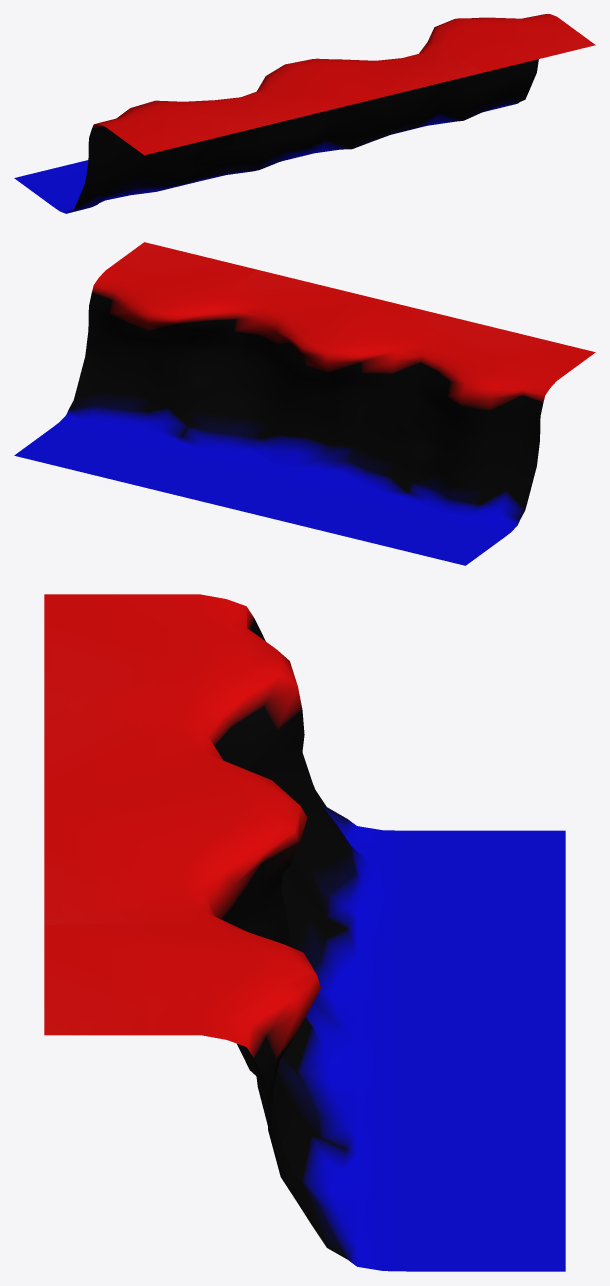
File: RiveCliff02B Background.fbx
3 renders of one model, top to bottom at view 1: azimuth 30°, elevation 25°; view 2: azimuth 150°, elevation 25°; view 3: azimuth 270°, elevation 25°, orthographic. The views are drawn at different scales.
Visible parts, largest first — view 1: RiveCliff02B Background; view 2: RiveCliff02B Background; view 3: RiveCliff02B Background.
Boxes of the visible parts, left/top/right/bottom form: RiveCliff02B Background: left=14, top=14, right=595, bottom=213; RiveCliff02B Background: left=14, top=242, right=595, bottom=565; RiveCliff02B Background: left=44, top=594, right=565, bottom=1271.
Bounding box in the file's own units: 4 × 1 × 2.
